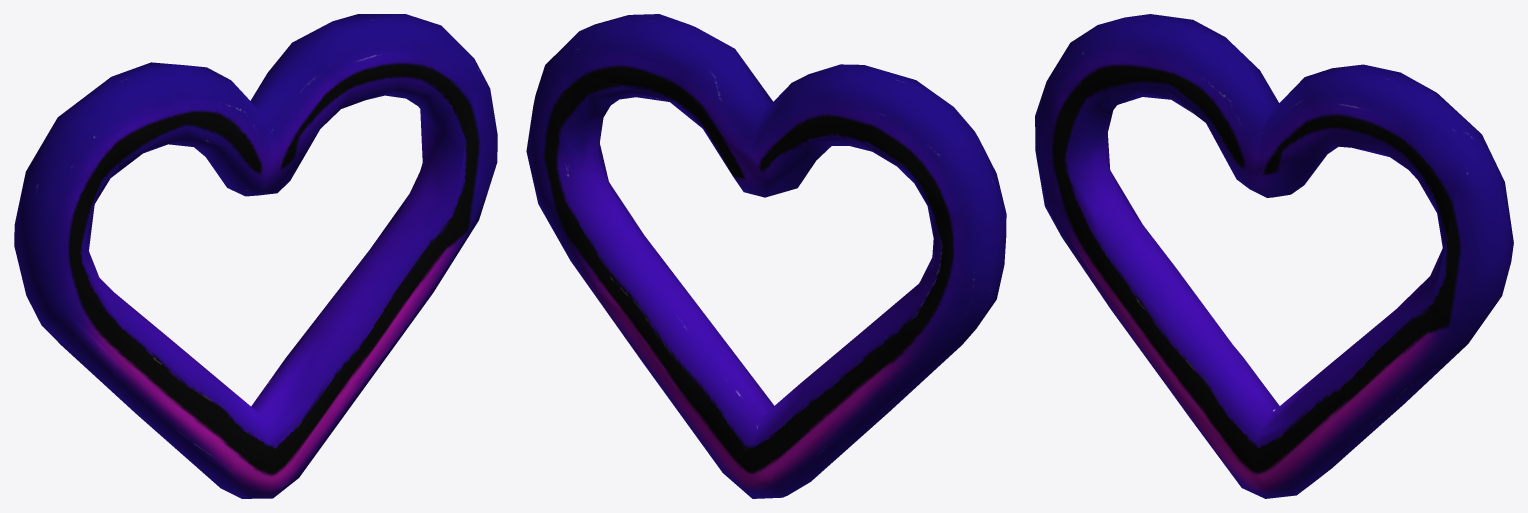
Rendered from circuit-neon-sign.glb.
3 views of the same model, side by side, from view 1: azimuth 30°, elevation 25°; view 2: azimuth 150°, elevation 25°; view 3: azimuth 330°, elevation 25° (orthographic).
Visible parts, largest first — view 1: geometry_0.001; view 2: geometry_0.001; view 3: geometry_0.001.
Boxes of the visible parts, x1=… form: geometry_0.001: x1=14, y1=14, x2=497, y2=498; geometry_0.001: x1=526, y1=14, x2=1006, y2=498; geometry_0.001: x1=1035, y1=14, x2=1513, y2=498.
Size of the model in its own units: 0.9973 by 0.9222 by 0.1353.
Materials: 1 (1 with a texture image).
